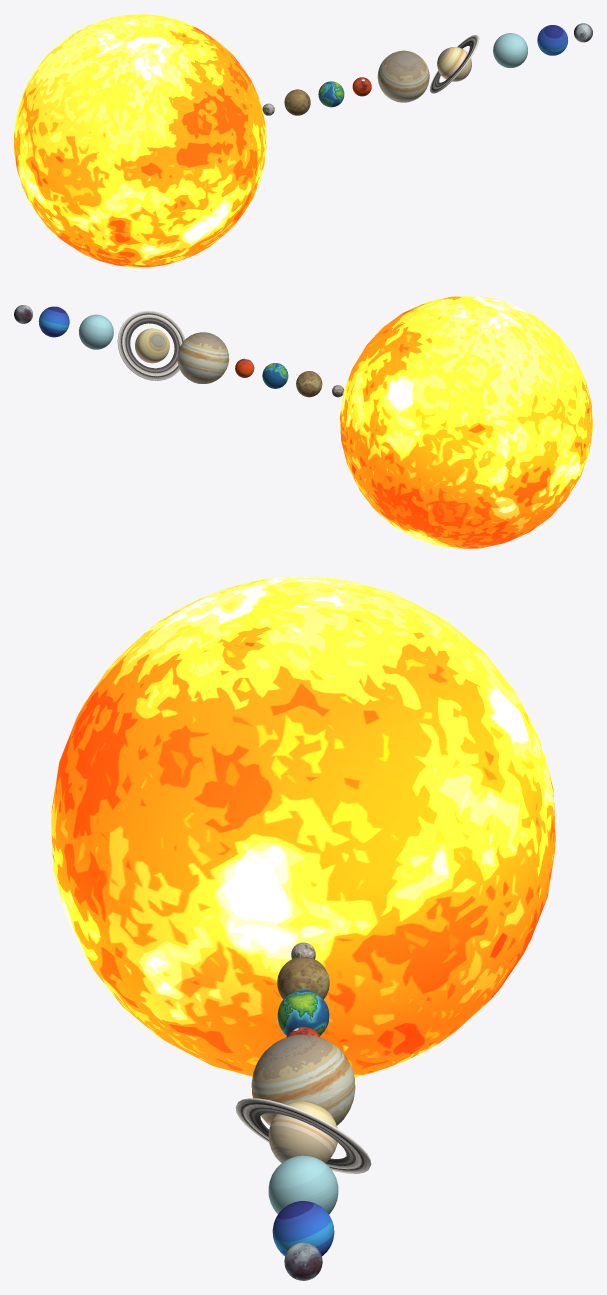
Rendered from Planets.fbx.
3 renders of one model, top to bottom at view 1: azimuth 30°, elevation 25°; view 2: azimuth 150°, elevation 25°; view 3: azimuth 270°, elevation 25°, orthographic. The views are drawn at different scales.
Parts seen in each view (by area): view 1: Sun, Jupiter, Saturn, Uranus, Neptune, Venus, Earth; view 2: Sun, Saturn, Jupiter, Uranus, Neptune, Venus, Earth; view 3: Sun, Jupiter, Saturn, Uranus, Neptune, Earth, Venus, Pluto.
Boxes of the visible parts, bbox=[...] form: Sun: bbox=[14, 14, 266, 267]; Jupiter: bbox=[377, 50, 429, 102]; Saturn: bbox=[429, 35, 479, 93]; Uranus: bbox=[493, 33, 527, 67]; Neptune: bbox=[537, 25, 567, 55]; Venus: bbox=[284, 89, 310, 115]; Earth: bbox=[318, 81, 344, 107]; Sun: bbox=[340, 296, 592, 548]; Saturn: bbox=[117, 310, 185, 380]; Jupiter: bbox=[177, 332, 229, 383]; Uranus: bbox=[79, 314, 113, 349]; Neptune: bbox=[38, 306, 69, 337]; Venus: bbox=[296, 371, 322, 397]; Earth: bbox=[262, 363, 288, 388]; Sun: bbox=[51, 577, 555, 1077]; Jupiter: bbox=[251, 1034, 355, 1125]; Saturn: bbox=[235, 1098, 371, 1173]; Uranus: bbox=[268, 1155, 338, 1214]; Neptune: bbox=[272, 1201, 334, 1256]; Earth: bbox=[277, 990, 329, 1035]; Venus: bbox=[277, 956, 329, 999]; Pluto: bbox=[284, 1242, 322, 1280].
Bounding box in the file's own units: 2260 × 884 × 882.
10 materials, 10 textured.
